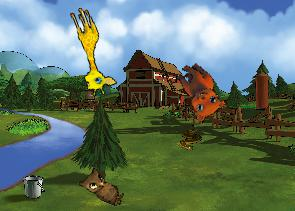bear: (163, 57, 232, 127)
giraffe: (58, 4, 119, 99)
owl: (76, 164, 130, 207)
